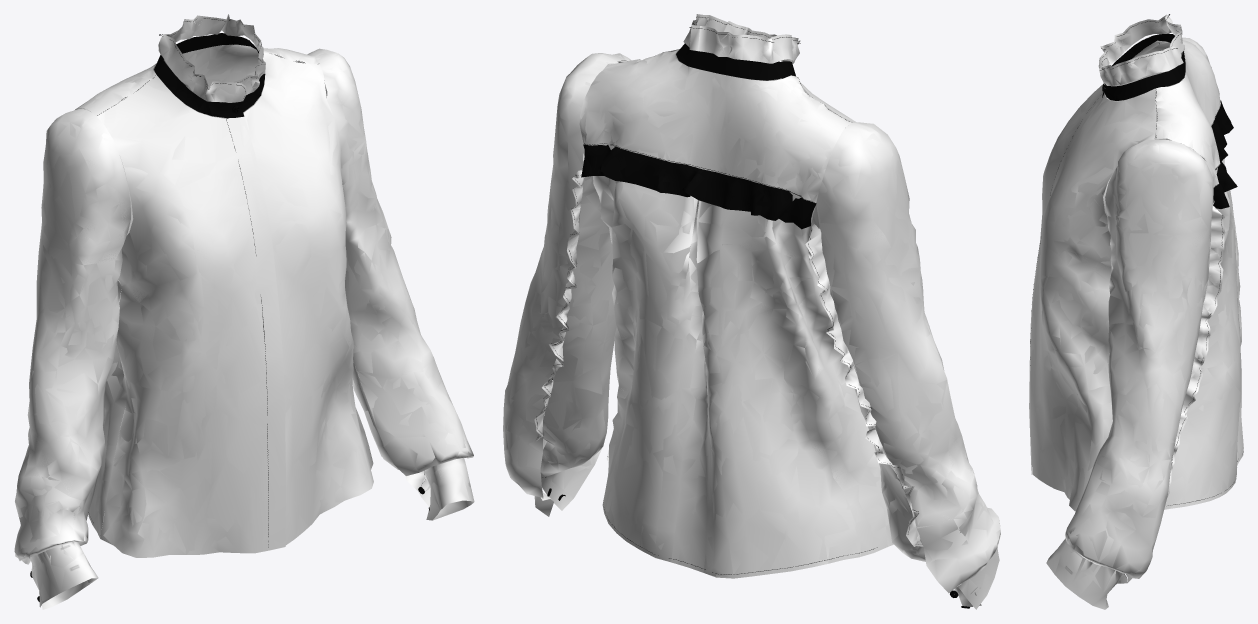
Rendered from vivianblouselowpoly1.fbx.
3 renders of one model, left to right at view 1: azimuth 30°, elevation 25°; view 2: azimuth 150°, elevation 25°; view 3: azimuth 270°, elevation 25°, orthographic. The views are drawn at different scales.
Parts seen in each view (by area): view 1: VIVIAN-BLOUSE_袖子-17.001; view 2: VIVIAN-BLOUSE_袖子-17.001; view 3: VIVIAN-BLOUSE_袖子-17.001.
Boxes of the visible parts, bbox=[...] form: VIVIAN-BLOUSE_袖子-17.001: bbox=[14, 14, 474, 609]; VIVIAN-BLOUSE_袖子-17.001: bbox=[503, 14, 1000, 609]; VIVIAN-BLOUSE_袖子-17.001: bbox=[1029, 14, 1243, 609].
Size of the model in its own units: 64.16 by 72.91 by 29.12.
73 materials, 73 textured.
